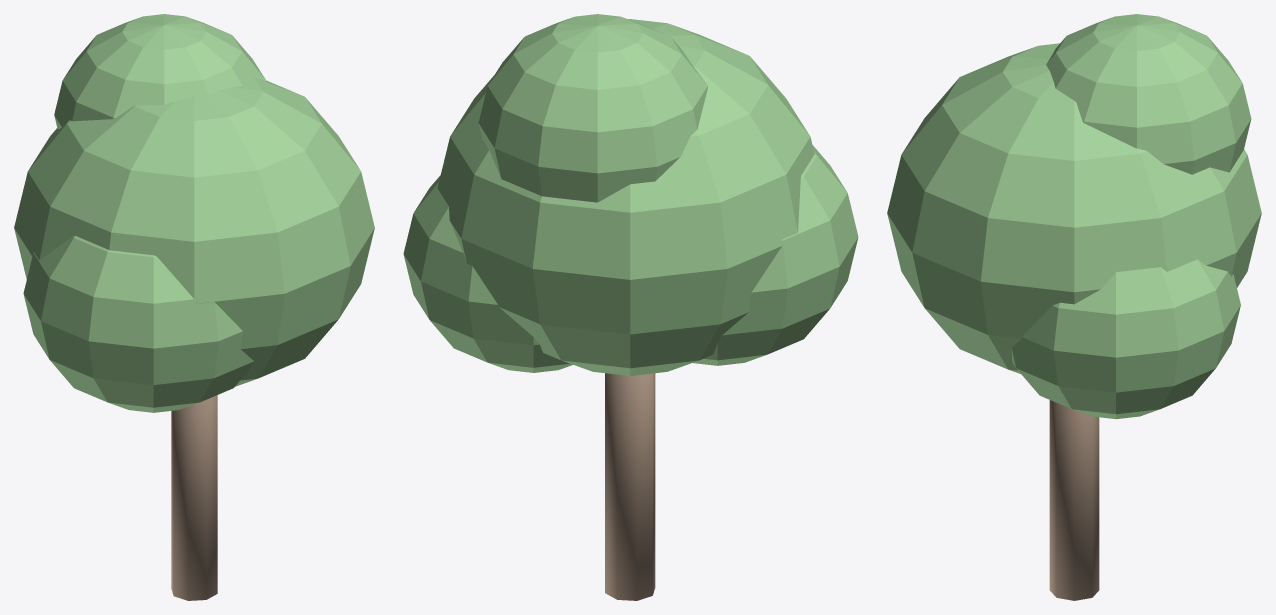
Rendered from tree.glb.
The picture shows the model from 3 angles, left to right: view 1: azimuth 30°, elevation 25°; view 2: azimuth 150°, elevation 25°; view 3: azimuth 270°, elevation 25°; orthographic projection. The views are drawn at different scales.
Parts seen in each view (by area): view 1: Crown0, Crown2, Crown3, Trunk; view 2: Crown0, Crown3, Crown2, Crown1, Trunk; view 3: Crown0, Crown1, Crown3, Trunk.
Part boxes in pixels (x1,y1,x2,y2): Crown0: (14, 77, 374, 386); Crown2: (23, 236, 254, 412); Crown3: (54, 14, 266, 129); Trunk: (171, 395, 217, 600); Crown0: (437, 19, 814, 375); Crown3: (478, 14, 707, 202); Crown2: (693, 145, 858, 365); Crown1: (403, 175, 572, 372); Trunk: (605, 373, 655, 600); Crown0: (887, 43, 1261, 373); Crown1: (1011, 259, 1240, 419); Crown3: (1046, 14, 1251, 174); Trunk: (1049, 400, 1099, 600).
Bounding box in the file's own units: 2 × 3 × 1.8.
